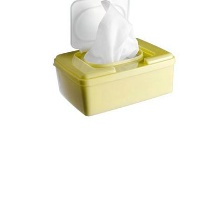plastic_box: (46, 0, 181, 120)
tissue: (79, 0, 141, 68)
